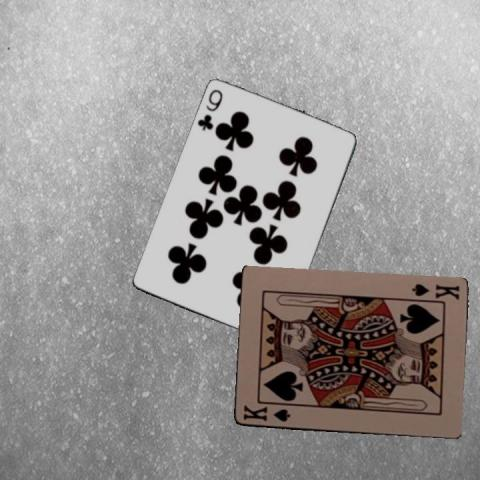9c: (194, 86, 224, 132)
Ks: (240, 402, 291, 423), (408, 282, 460, 302)
